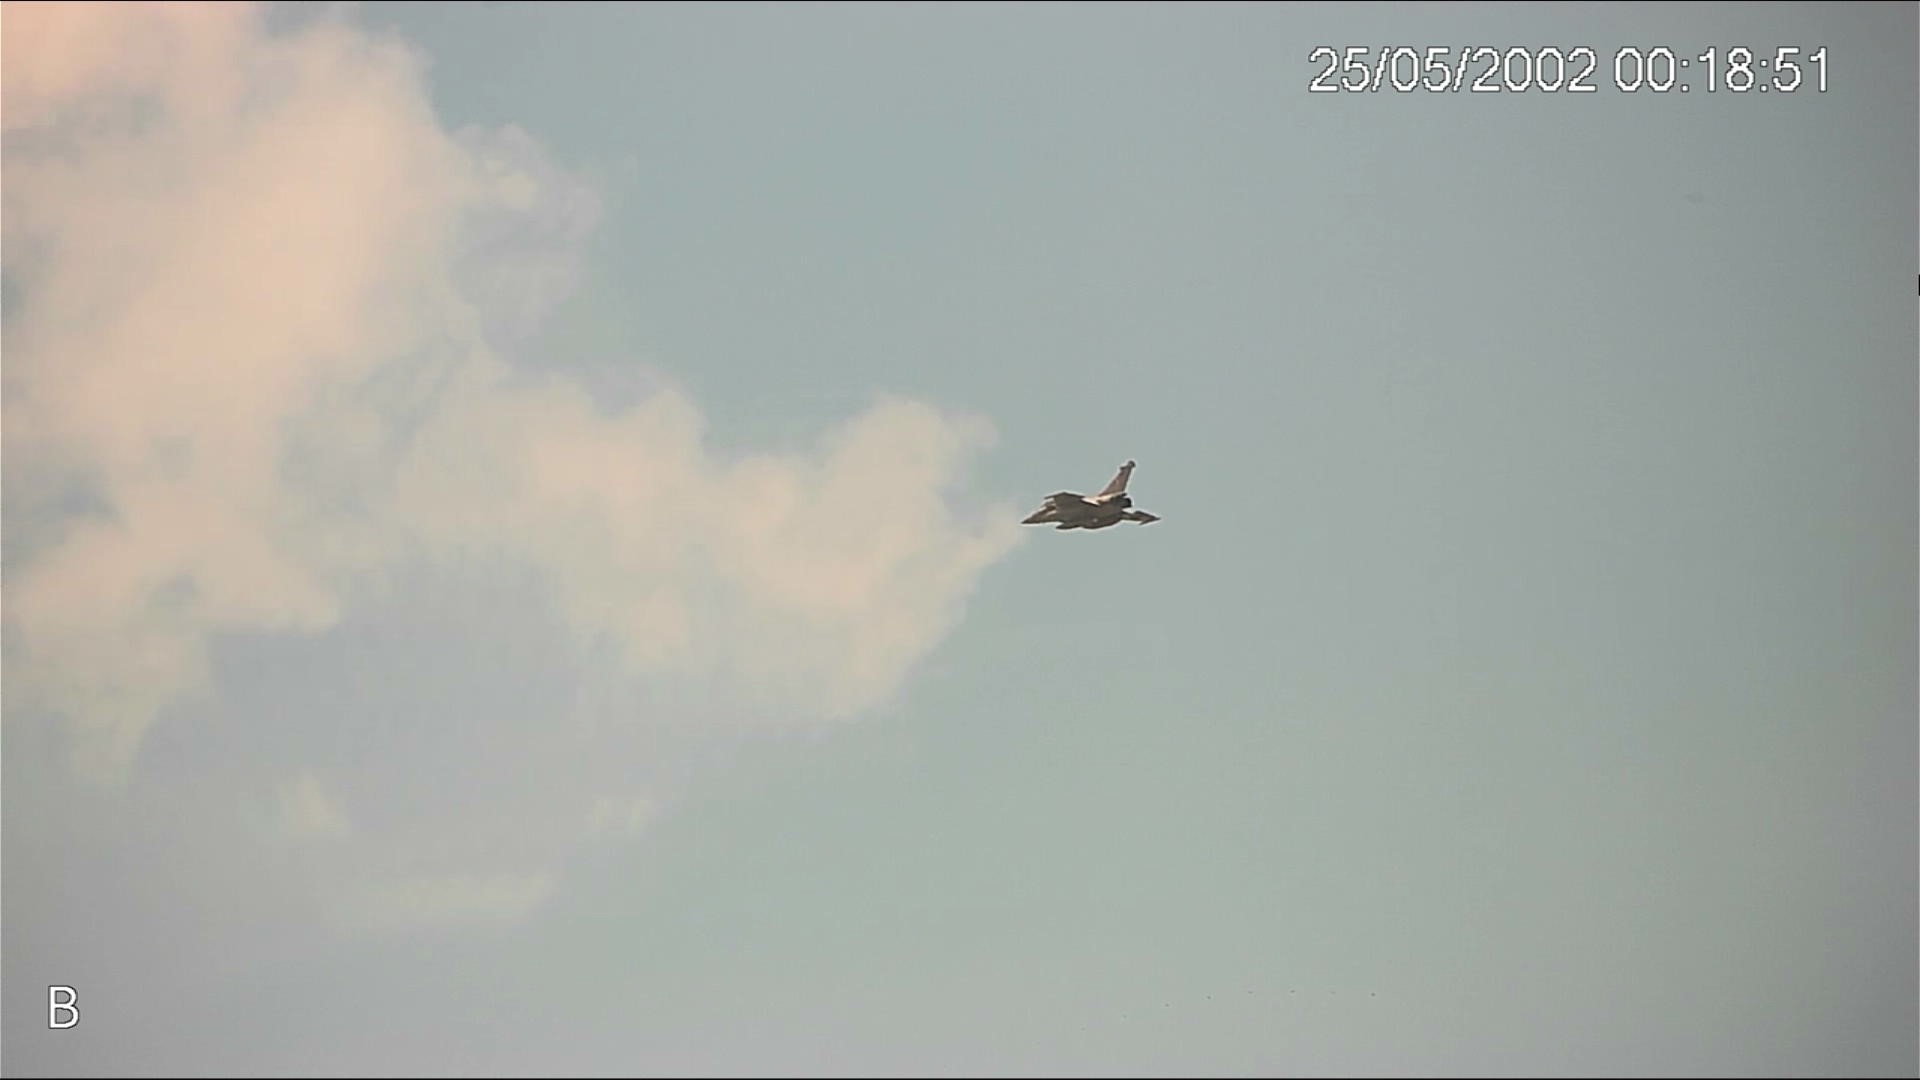SU_30: (1023, 459, 1160, 541)
